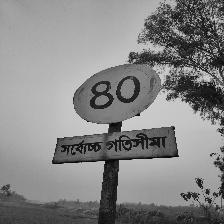Speed-limit: (53, 61, 177, 164)
